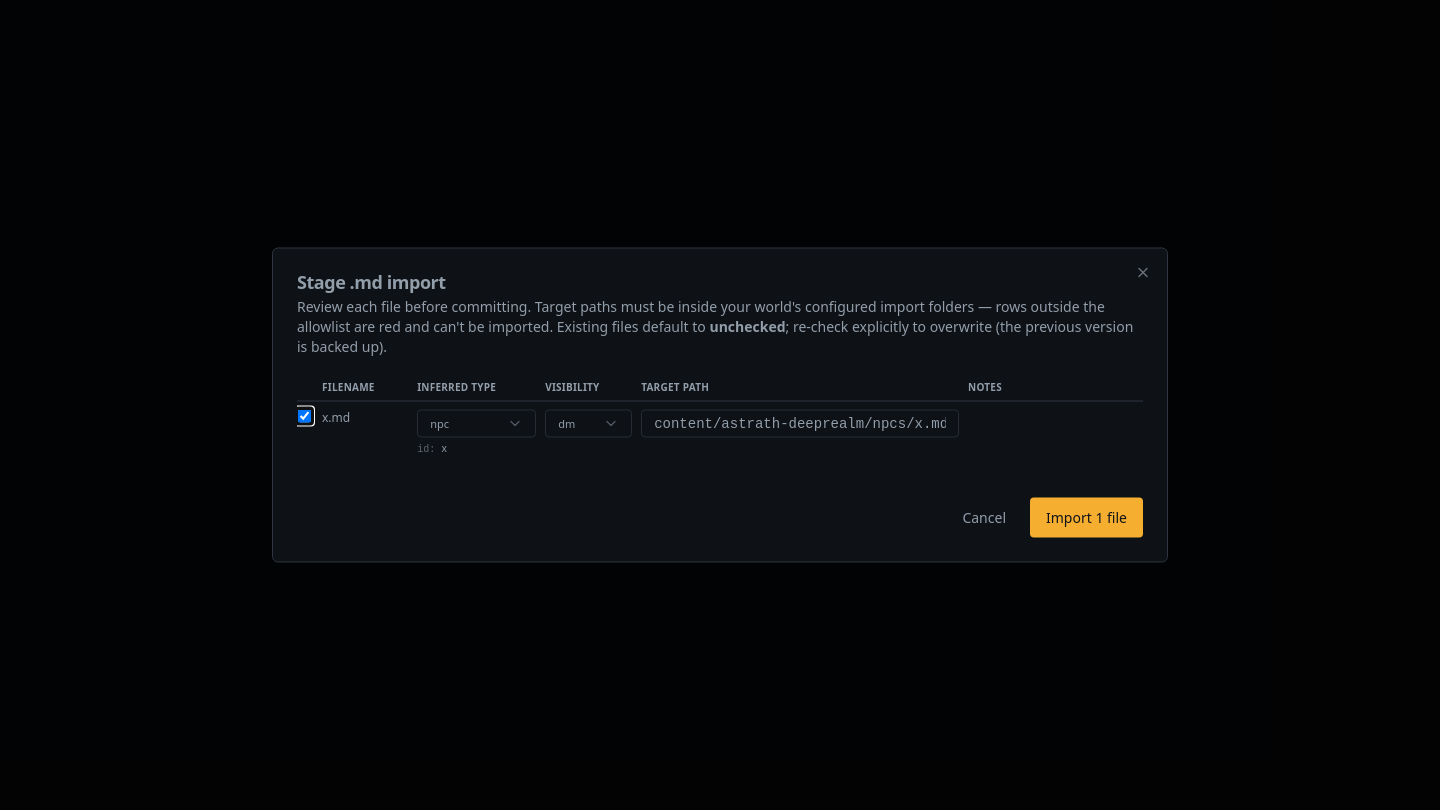
ImportStagingModal › disallowed-path row is uncheckable and Import button disabled
This screenshot has width=1440, height=810.
Replace the text in the field showing "content/astrath-deeprealm/npcs/x.md" with "content/astrath-deeprealm/_atlas/world.yaml" at point(800, 424), box [641,410,959,438]
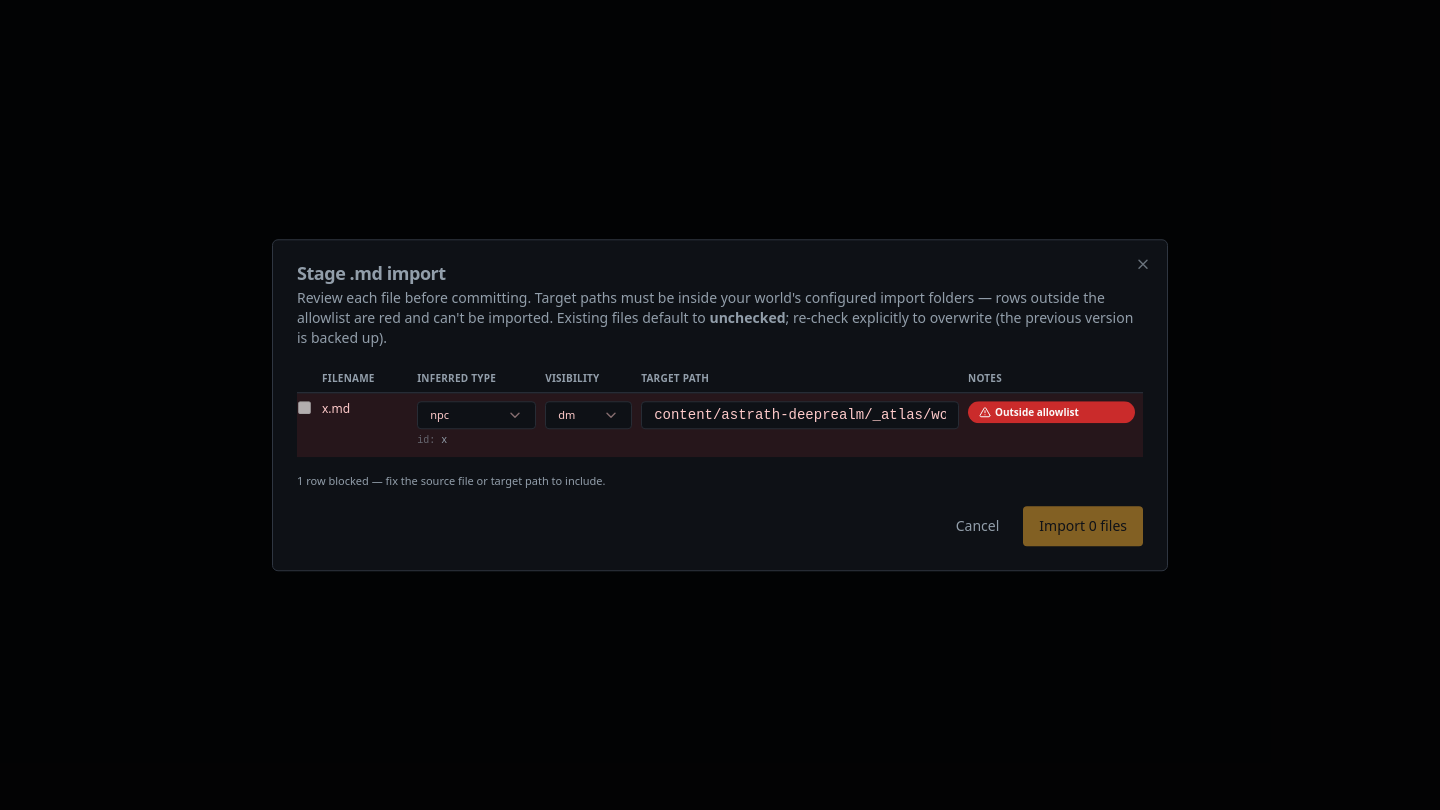
Expected: the checkbox named "Include x.md" is disabled, [298,401,311,414]
Expected: the checkbox named "Include x.md" is not checked, [298,401,311,414]
Expected: the text "Outside allowlist" is shown, [968,401,1135,423]
